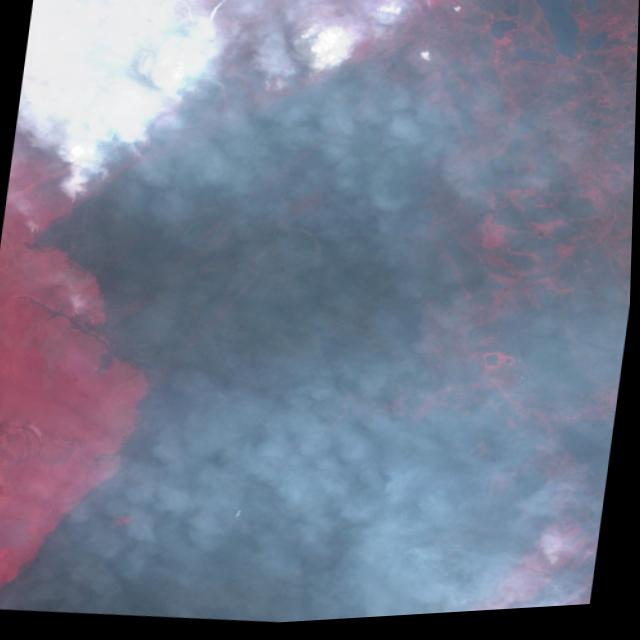fire: (55, 0, 417, 243)
